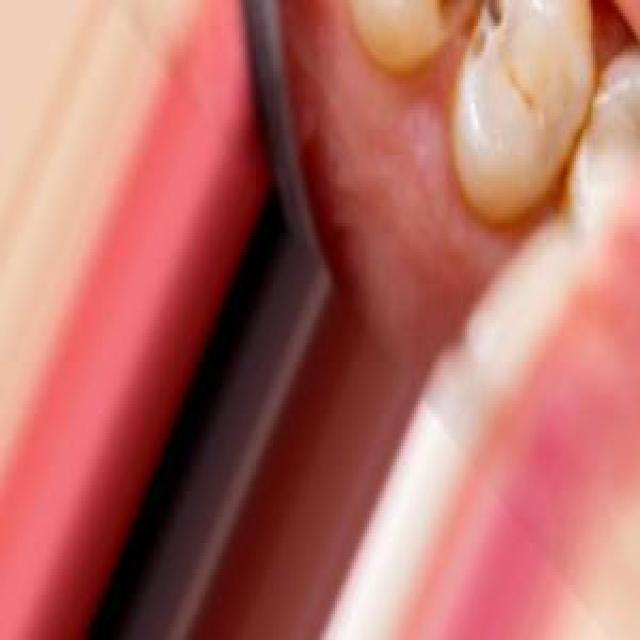caries: (438, 0, 558, 113)
